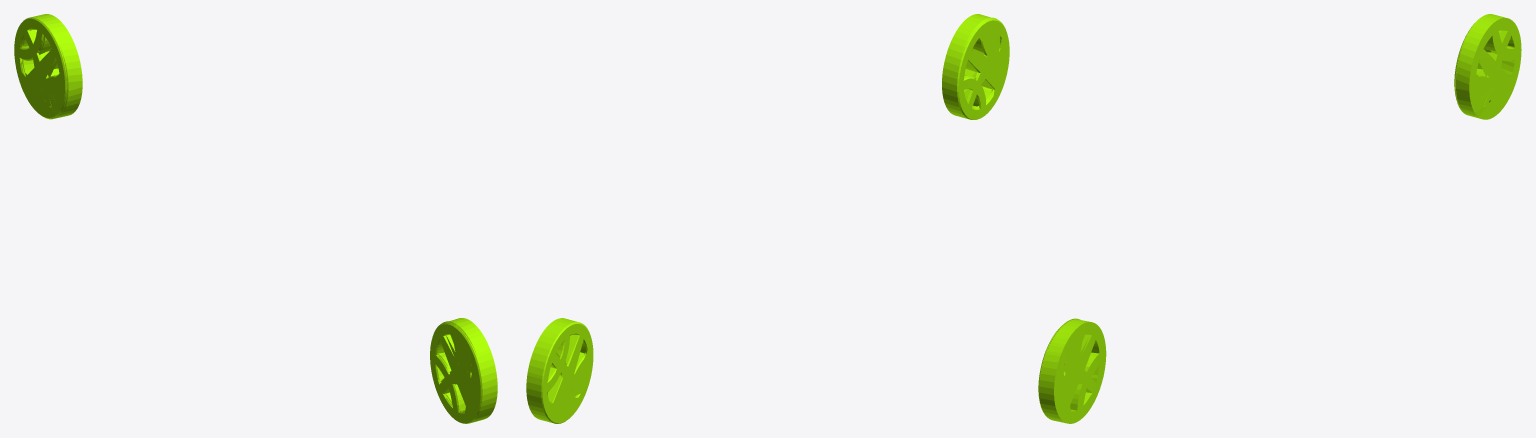
The model's file is MenuBall.fbx.
The picture shows the model from 3 angles, left to right: view 1: azimuth 30°, elevation 25°; view 2: azimuth 150°, elevation 25°; view 3: azimuth 330°, elevation 25°; orthographic projection.
Parts seen in each view (by area): view 1: Ball.002; view 2: Ball.002; view 3: Ball.002.
Boxes of the visible parts, box(x1,y1,x2,y2) form: Ball.002: box(14, 14, 497, 423); Ball.002: box(526, 14, 1009, 423); Ball.002: box(1038, 14, 1521, 423).
Size of the model in its own units: 5.31 by 28.61 by 255.
